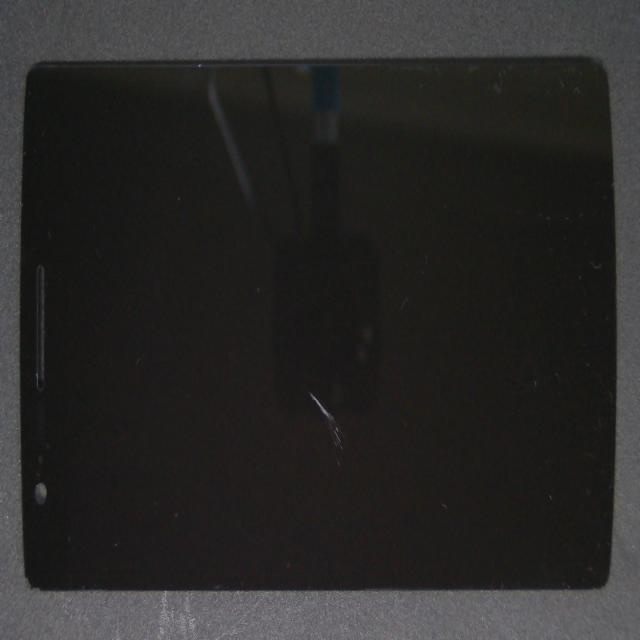scratch: (202, 194, 501, 573)
